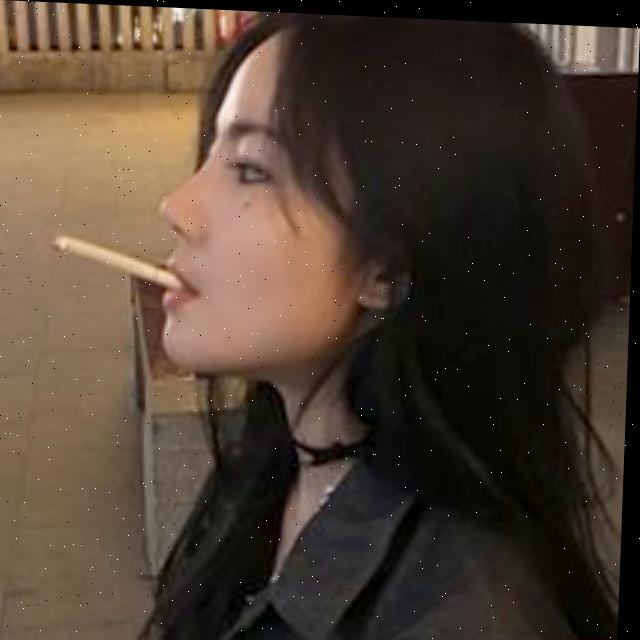cigarette: (46, 229, 193, 298)
